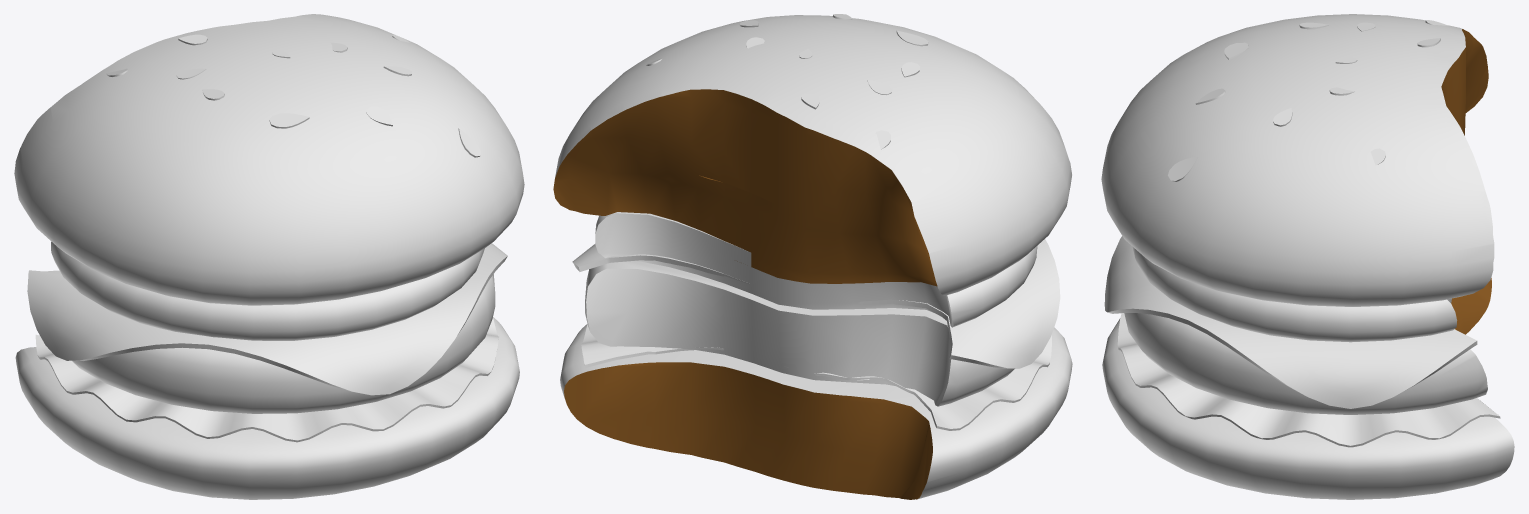
The model's file is food1animated 2nd).fbx.
The picture shows the model from 3 angles, left to right: view 1: azimuth 30°, elevation 25°; view 2: azimuth 150°, elevation 25°; view 3: azimuth 270°, elevation 25°; orthographic projection.
Visible parts, largest first — view 1: Circle.002; view 2: Circle.002; view 3: Circle.002.
Boxes of the visible parts, x1,y1,x2,y2 form: Circle.002: (14, 14, 524, 499); Circle.002: (553, 14, 1072, 499); Circle.002: (1101, 14, 1514, 499).
Size of the model in its own units: 193 by 162 by 159.
